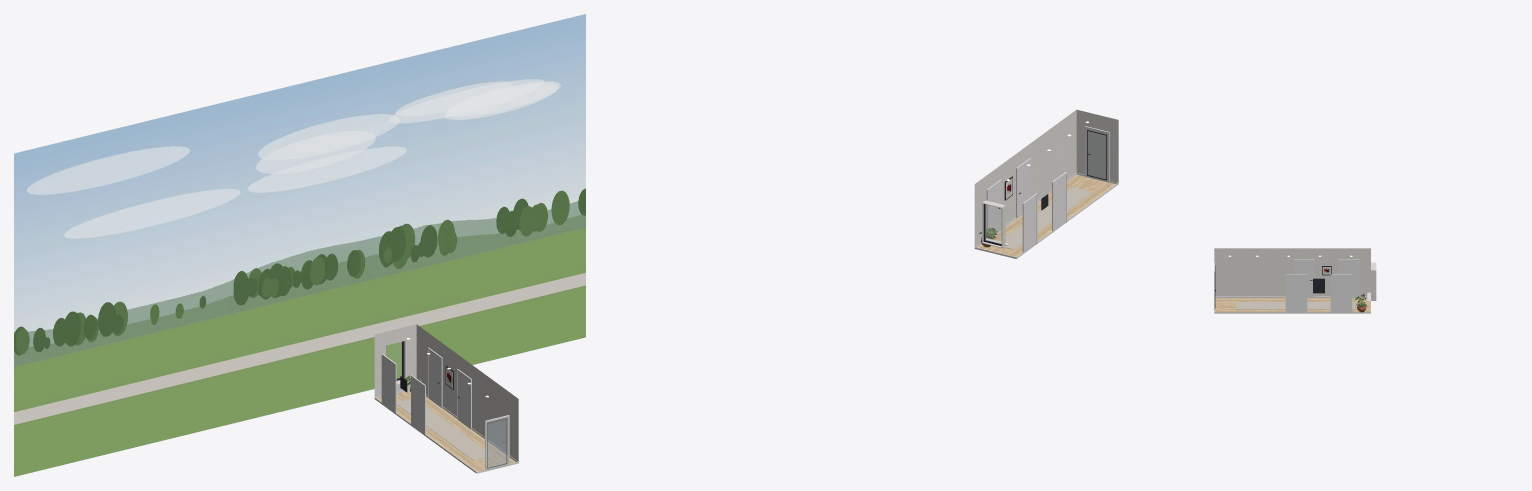
The model's file is corridor.glb.
The picture shows the model from 3 angles, left to right: view 1: azimuth 30°, elevation 25°; view 2: azimuth 150°, elevation 25°; view 3: azimuth 270°, elevation 25°; orthographic projection. The views are drawn at different scales.
Parts seen in each view (by area): view 1: Mesh_20, corridor_baked, Mesh_21; view 2: corridor_baked, Mesh_21; view 3: corridor_baked.
Boxes of the visible parts, bbox=[...] form: Mesh_20: bbox=[14, 14, 585, 476]; corridor_baked: bbox=[374, 324, 518, 473]; Mesh_21: bbox=[486, 417, 508, 470]; corridor_baked: bbox=[974, 109, 1118, 258]; Mesh_21: bbox=[1086, 128, 1107, 181]; corridor_baked: bbox=[1214, 248, 1376, 313].
Bounding box in the file's own units: 25.9 × 14 × 15.5.
12 materials, 12 textured.
